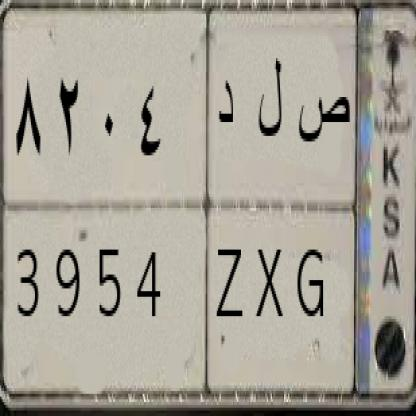english: (4, 204, 361, 384)
